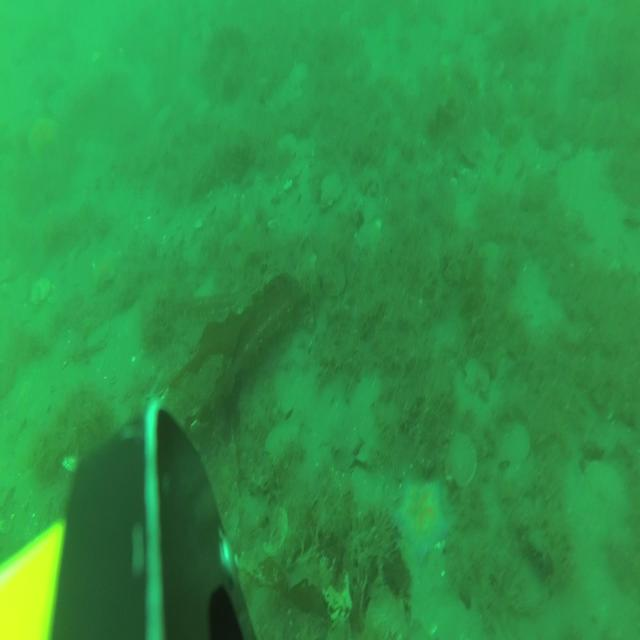scallop: (493, 415, 533, 480), (445, 426, 479, 489), (264, 417, 303, 466), (260, 501, 294, 556), (462, 355, 492, 397), (319, 170, 344, 207), (28, 276, 53, 305)
starfish: (392, 461, 456, 562), (24, 113, 64, 163)
